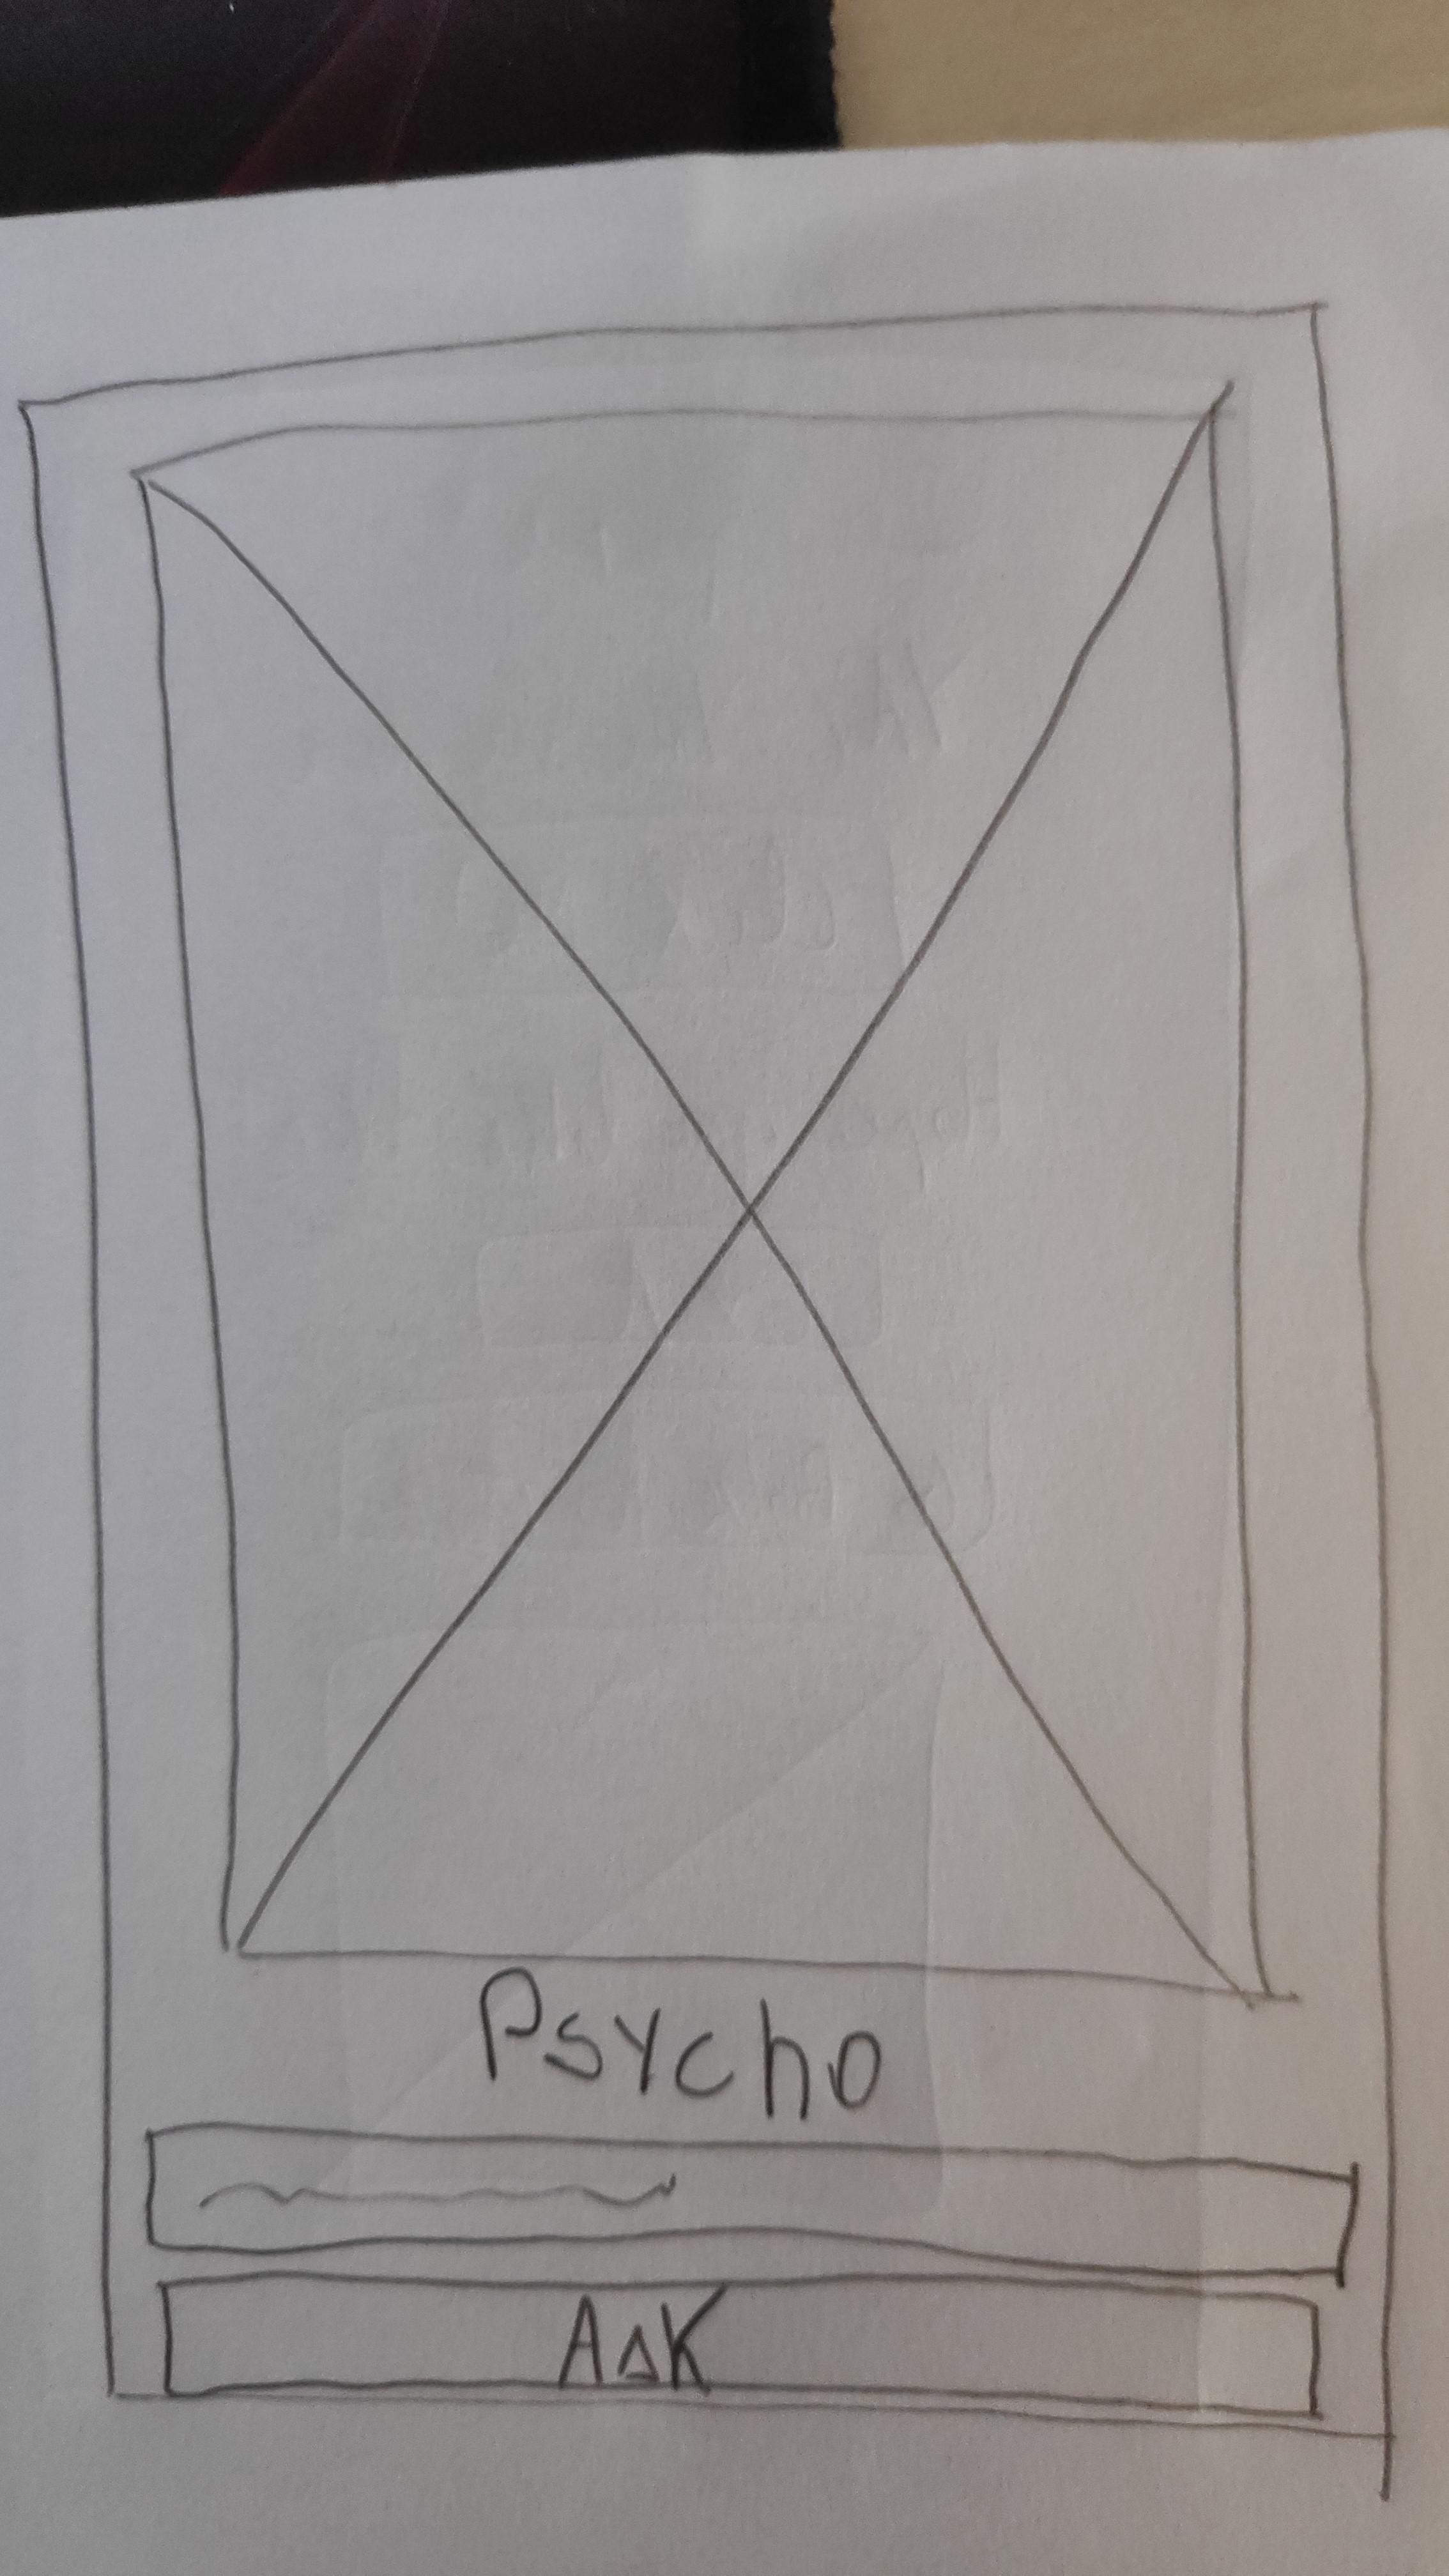Button: (162, 2268, 1322, 2415)
Image: (135, 407, 1269, 2000)
Label: (476, 1964, 886, 2126)
Screen: (27, 303, 1393, 2436)
TextBox: (147, 2120, 1361, 2278)
